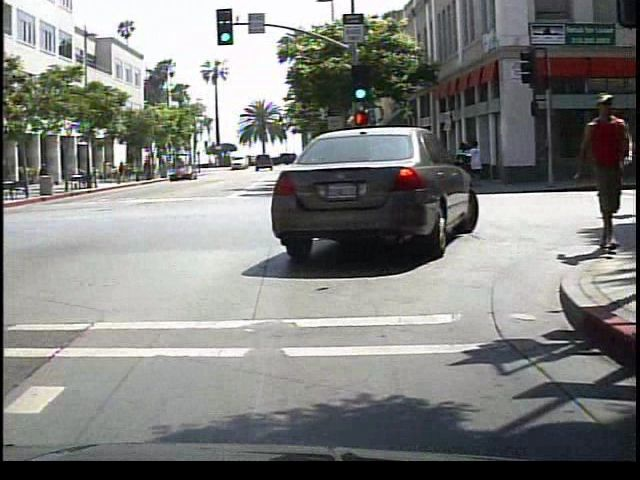person: (560, 86, 630, 266), (32, 158, 50, 190)
